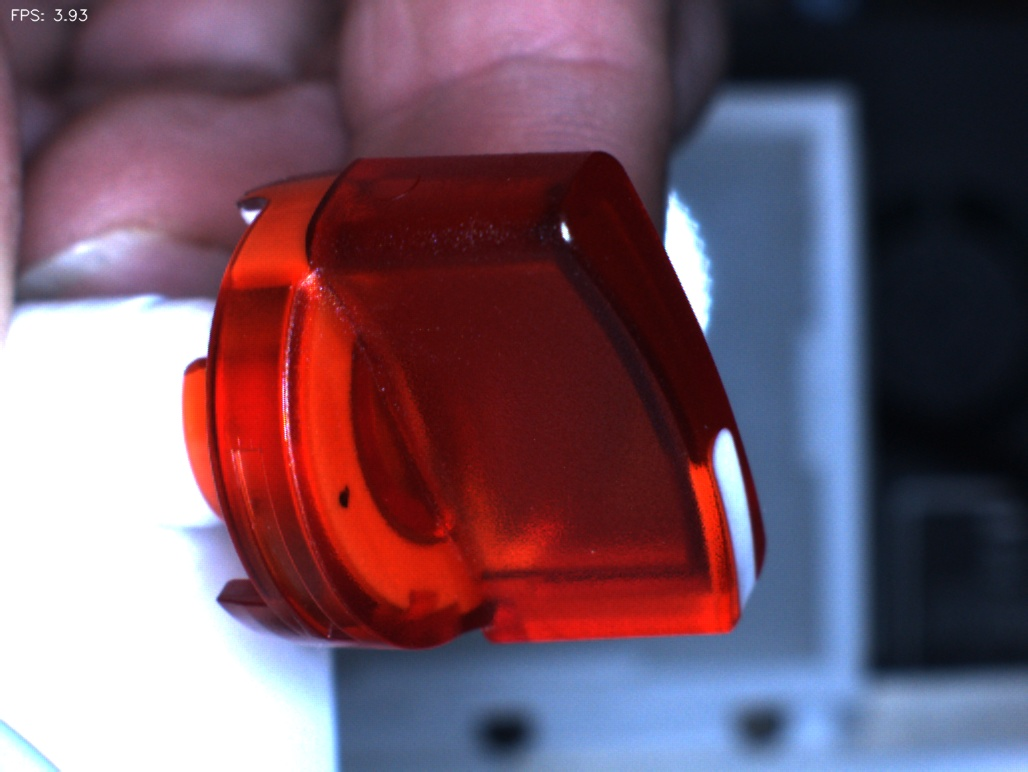PointNoir: (307, 450, 385, 540)
